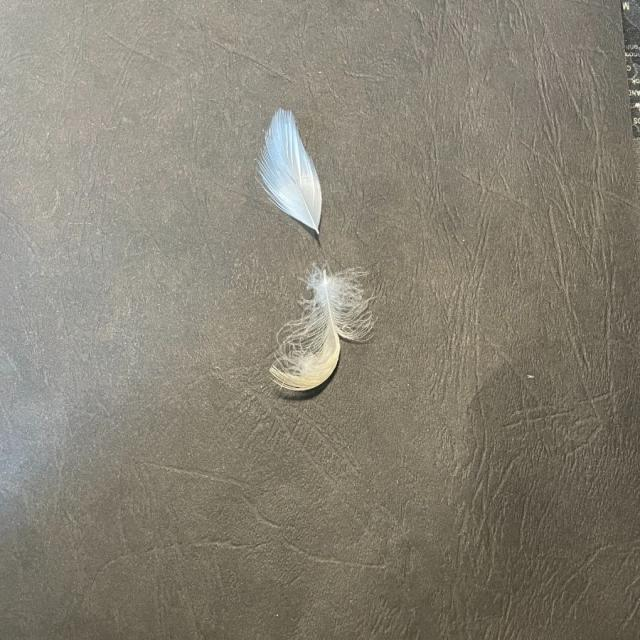feather: (267, 257, 374, 392), (254, 109, 327, 235)
